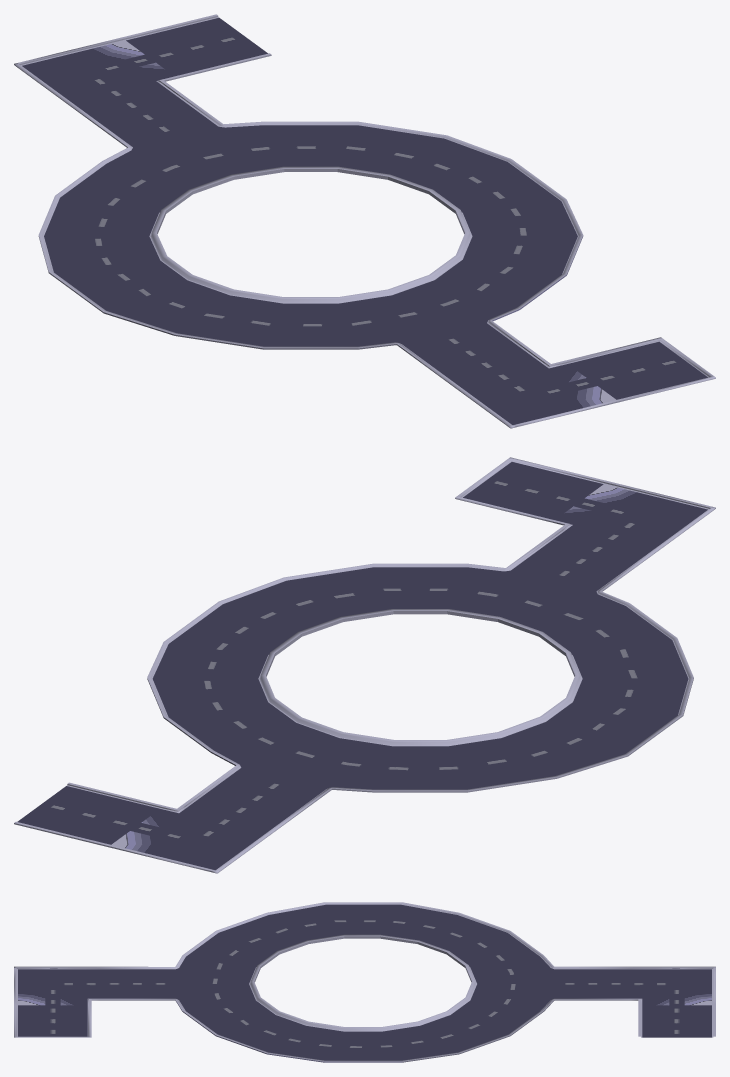
3 views of the same model, one above another, from view 1: azimuth 30°, elevation 25°; view 2: azimuth 150°, elevation 25°; view 3: azimuth 270°, elevation 25° (orthographic). The views are drawn at different scales.
Parts seen in each view (by area): view 1: Circle_3; view 2: Circle_3; view 3: Circle_3.
Part boxes in pixels (<box>): Circle_3: <box>14,14,715,428</box>; Circle_3: <box>14,457,715,873</box>; Circle_3: <box>14,902,715,1062</box>.
Size of the model in its own units: 48.31 by 0.3291 by 89.84.
